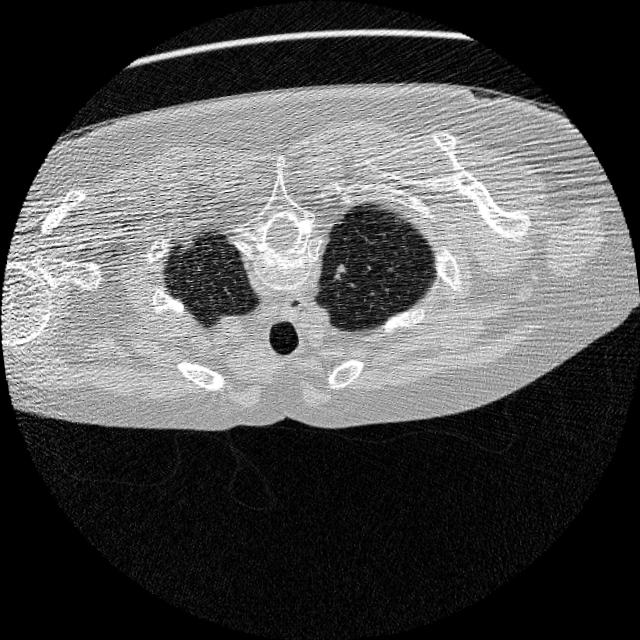nodule: (324, 260, 350, 285)
